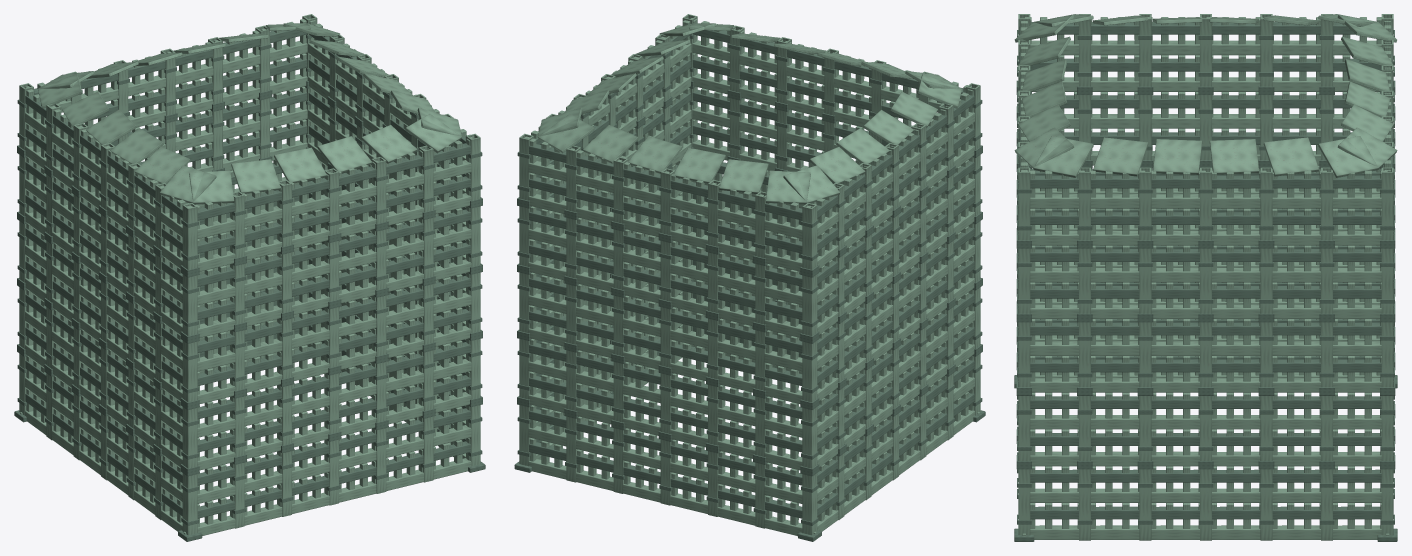
The picture shows the model from 3 angles, left to right: view 1: azimuth 30°, elevation 25°; view 2: azimuth 150°, elevation 25°; view 3: azimuth 270°, elevation 25°; orthographic projection. The views are drawn at different scales.
Visible parts, largest first — view 1: Crown alloy petal 0-1, Crown alloy petal 0-2, Crown alloy petal 0-3, Crown alloy petal 0-4, Crown alloy petal 3-4, Crown alloy petal 0-0, Crown alloy petal 3-3, Crown alloy petal 3-5, Crown alloy petal 0-5, Crown alloy petal 3-2, Crown alloy petal 3-1, Tier 4 side 0 post 0 (+40 smaller); view 2: Crown alloy petal 2-4, Crown alloy petal 2-3, Crown alloy petal 2-2, Crown alloy petal 2-1, Crown alloy petal 3-1, Crown alloy petal 2-5, Crown alloy petal 3-2, Crown alloy petal 3-0, Crown alloy petal 2-0, Crown alloy petal 3-3, Crown alloy petal 3-4, Tier 4 side 3 post 0 (+33 smaller); view 3: Crown alloy petal 1-1, Crown alloy petal 1-4, Crown alloy petal 1-2, Crown alloy petal 1-3, Crown alloy petal 1-5, Crown alloy petal 1-0, Crown alloy petal 0-5, Crown alloy petal 2-0, Crown alloy petal 2-1, Crown alloy petal 0-4, Crown alloy petal 2-2, Crown alloy petal 0-3 (+195 smaller).
Boxes of the visible parts, x1=… form: Crown alloy petal 0-1: x1=231, y1=159, x2=280, y2=193; Crown alloy petal 0-2: x1=274, y1=147, x2=326, y2=183; Crown alloy petal 0-3: x1=317, y1=136, x2=372, y2=172; Crown alloy petal 0-4: x1=361, y1=125, x2=417, y2=163; Crown alloy petal 3-4: x1=134, y1=147, x2=190, y2=183; Crown alloy petal 0-0: x1=189, y1=170, x2=234, y2=204; Crown alloy petal 3-3: x1=110, y1=128, x2=163, y2=164; Crown alloy petal 3-5: x1=159, y1=165, x2=216, y2=203; Crown alloy petal 0-5: x1=405, y1=114, x2=461, y2=153; Crown alloy petal 3-2: x1=86, y1=110, x2=136, y2=144; Crown alloy petal 3-1: x1=62, y1=91, x2=109, y2=127; Tier 4 side 0 post 0: x1=182, y1=203, x2=197, y2=269; Crown alloy petal 2-4: x1=719, y1=159, x2=768, y2=193; Crown alloy petal 2-3: x1=673, y1=147, x2=725, y2=183; Crown alloy petal 2-2: x1=628, y1=136, x2=682, y2=173; Crown alloy petal 2-1: x1=583, y1=125, x2=638, y2=163; Crown alloy petal 3-1: x1=809, y1=147, x2=865, y2=183; Crown alloy petal 2-5: x1=765, y1=170, x2=810, y2=204; Crown alloy petal 3-2: x1=836, y1=128, x2=889, y2=164; Crown alloy petal 3-0: x1=783, y1=165, x2=840, y2=203; Crown alloy petal 2-0: x1=538, y1=114, x2=594, y2=153; Crown alloy petal 3-3: x1=863, y1=110, x2=913, y2=144; Crown alloy petal 3-4: x1=890, y1=91, x2=937, y2=127; Tier 4 side 3 post 0: x1=802, y1=203, x2=817, y2=269; Crown alloy petal 1-1: x1=1093, y1=137, x2=1148, y2=176; Crown alloy petal 1-4: x1=1263, y1=137, x2=1318, y2=176; Crown alloy petal 1-2: x1=1153, y1=139, x2=1202, y2=174; Crown alloy petal 1-3: x1=1209, y1=139, x2=1258, y2=174; Crown alloy petal 1-5: x1=1318, y1=136, x2=1378, y2=177; Crown alloy petal 1-0: x1=1033, y1=136, x2=1093, y2=177; Crown alloy petal 0-5: x1=1014, y1=127, x2=1074, y2=169; Crown alloy petal 2-0: x1=1337, y1=127, x2=1397, y2=169; Crown alloy petal 2-1: x1=1341, y1=104, x2=1393, y2=141; Crown alloy petal 0-4: x1=1018, y1=104, x2=1070, y2=141; Crown alloy petal 2-2: x1=1345, y1=81, x2=1389, y2=117; Crown alloy petal 0-3: x1=1022, y1=81, x2=1066, y2=117.
Bounding box in the file's own units: 2.85 × 3.13 × 2.85.
2 materials, 2 textured.
